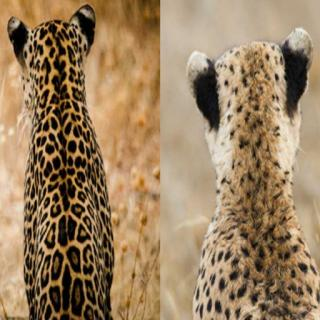Leopard: (0, 0, 170, 320)
